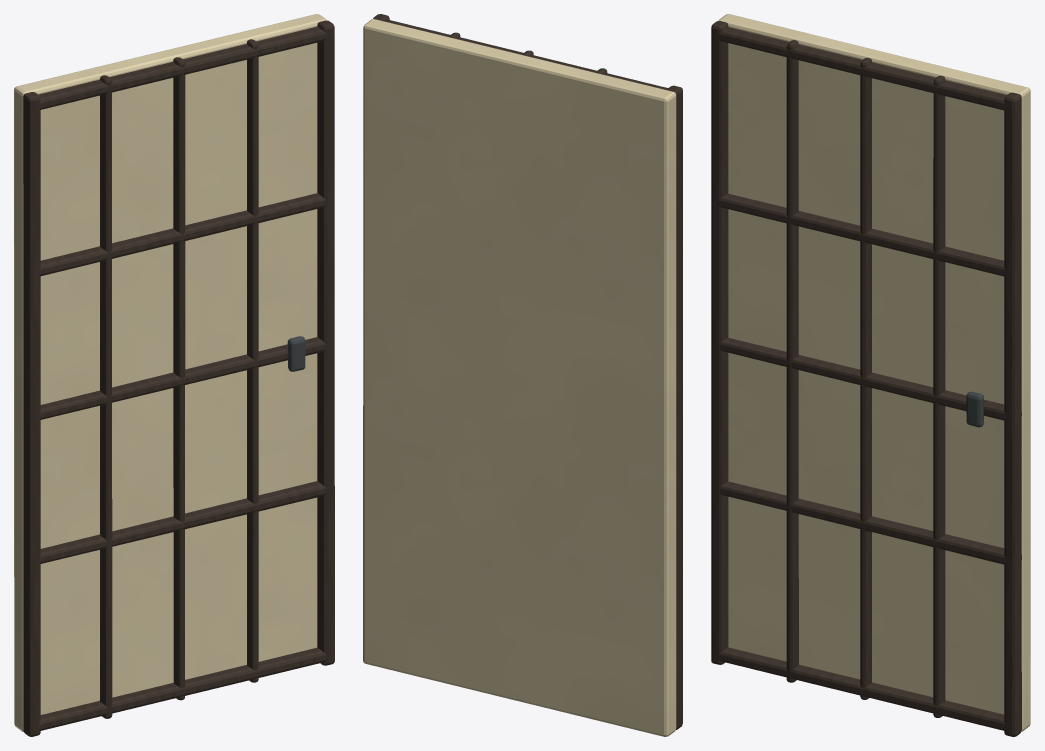
The model's file is AR_Door_Shoji_1m.glb.
The picture shows the model from 3 angles, left to right: view 1: azimuth 30°, elevation 25°; view 2: azimuth 150°, elevation 25°; view 3: azimuth 330°, elevation 25°; orthographic projection.
Visible parts, largest first — view 1: AR_Door_Shoji_1m; view 2: AR_Door_Shoji_1m; view 3: AR_Door_Shoji_1m.
Boxes of the visible parts, box(x1,y1,x2,y2) form: AR_Door_Shoji_1m: box(14, 14, 334, 736); AR_Door_Shoji_1m: box(363, 14, 682, 736); AR_Door_Shoji_1m: box(711, 14, 1030, 736).
Size of the model in its own units: 1 by 2 by 0.1145.
Materials: 3 (2 with a texture image).
